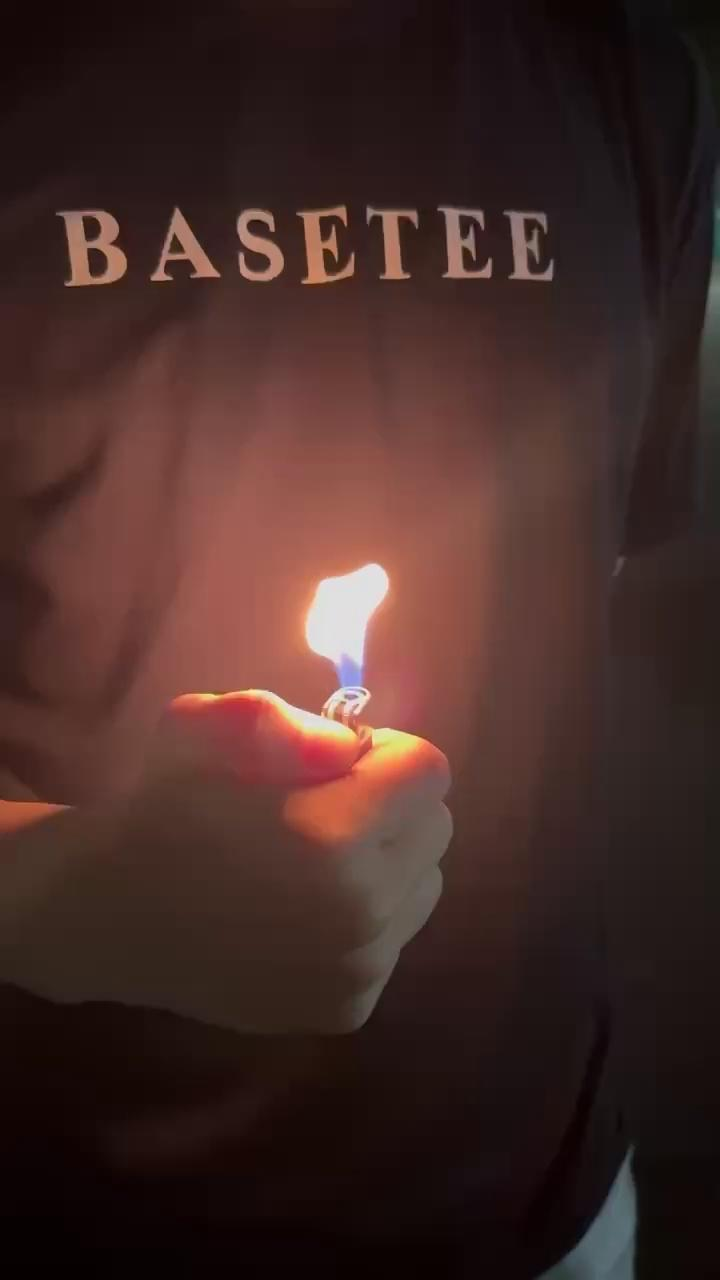Fire: (298, 532, 425, 705)
